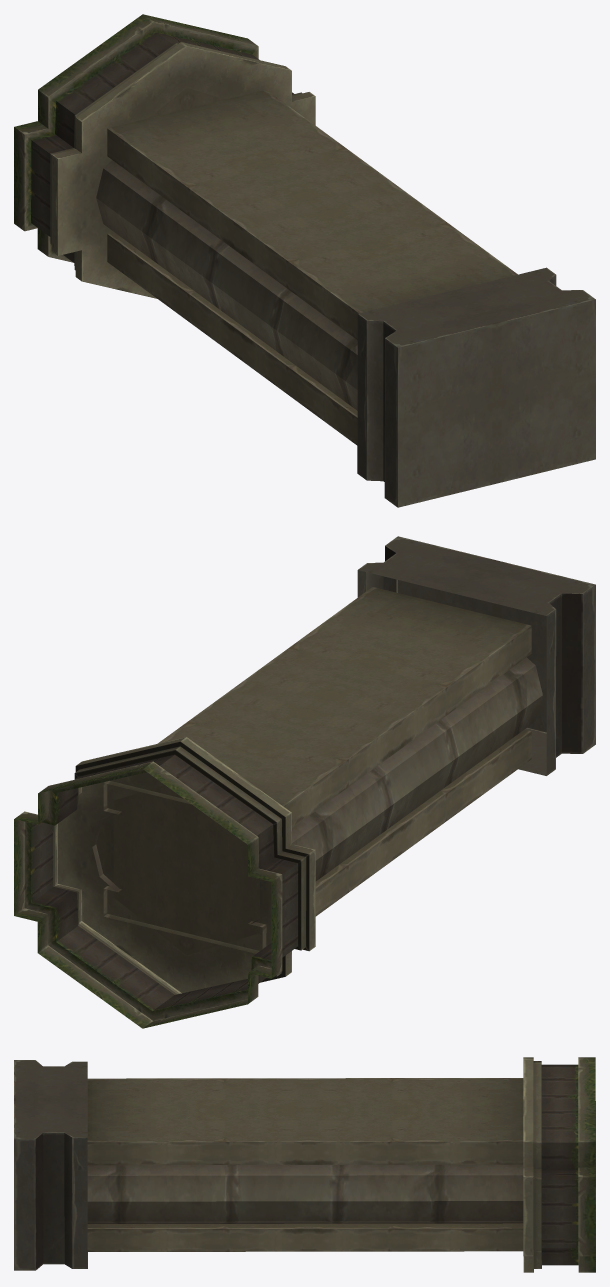
Rendered from huodong_fuben_598_jianzhu01_zhuzi.obj.
The picture shows the model from 3 angles, top to bottom: view 1: azimuth 30°, elevation 25°; view 2: azimuth 150°, elevation 25°; view 3: azimuth 270°, elevation 25°; orthographic projection. The views are drawn at different scales.
Visible parts, largest first — view 1: huodong_fuben_598_jianzhu01_zhuzi; view 2: huodong_fuben_598_jianzhu01_zhuzi; view 3: huodong_fuben_598_jianzhu01_zhuzi.
Boxes of the visible parts, x1,y1,x2,y2 form: huodong_fuben_598_jianzhu01_zhuzi: (14,14,595,507); huodong_fuben_598_jianzhu01_zhuzi: (14,536,595,1028); huodong_fuben_598_jianzhu01_zhuzi: (14,1057,595,1272).
Size of the model in its own units: 153 by 148 by 365.
Materials: 1 (1 with a texture image).
